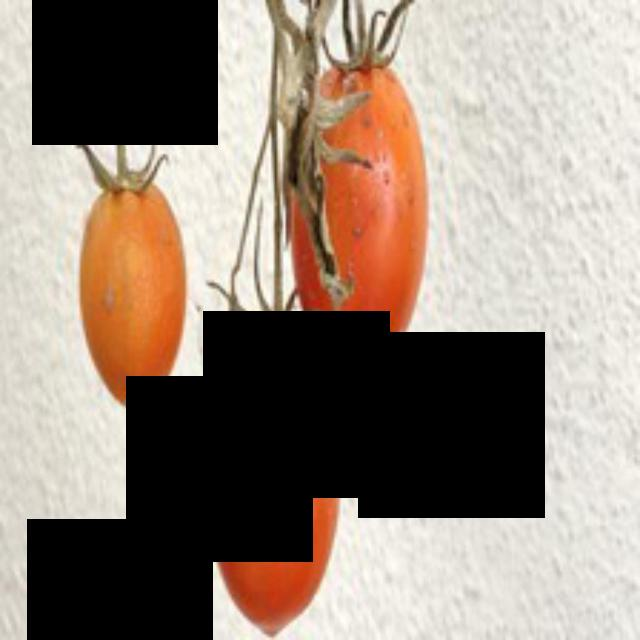tomato: (196, 334, 352, 624), (80, 187, 192, 405)
